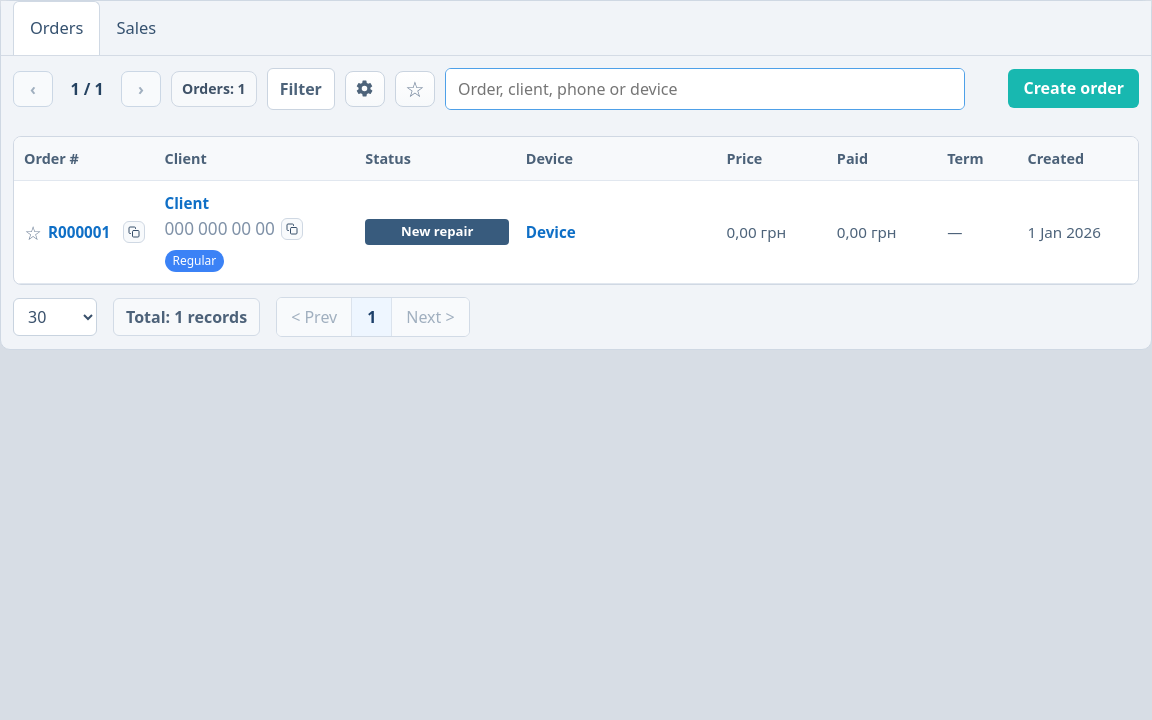
Test: OrdersWorkspace › does not scroll when closing the order card
The image size is (1152, 720).
Click the link "R000001" at [79, 232], box [48,221,110,244]
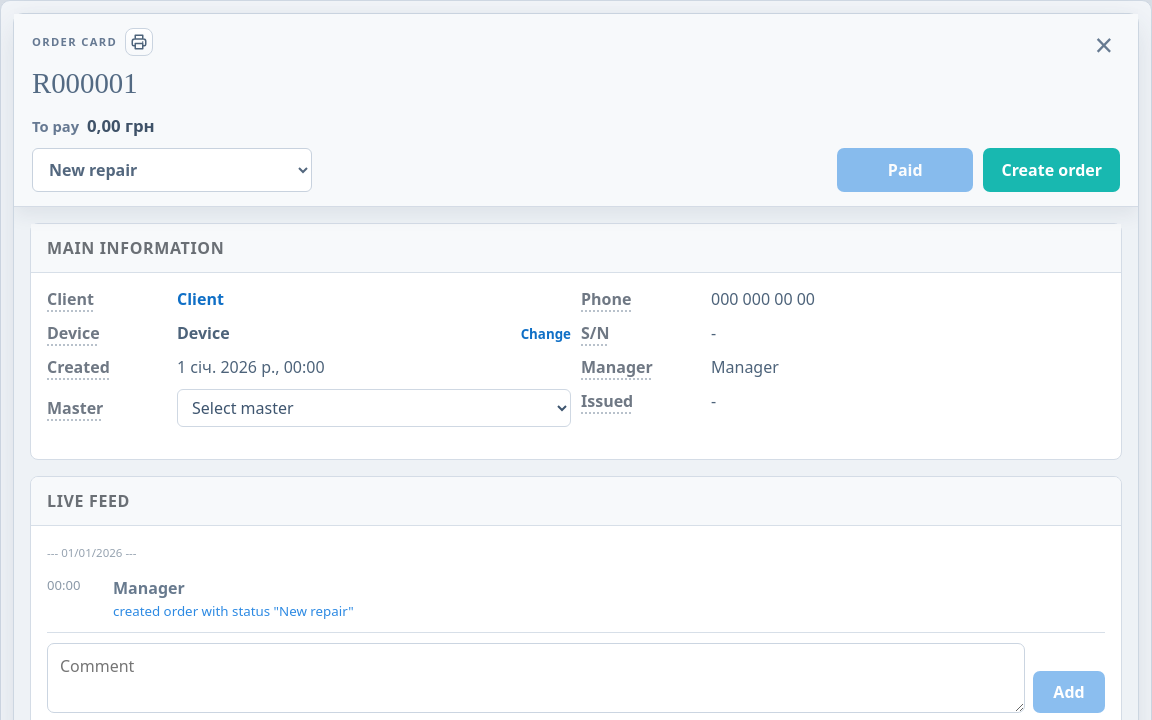
Click the button named "Close order card" at [1104, 44], box [1088,28,1120,60]
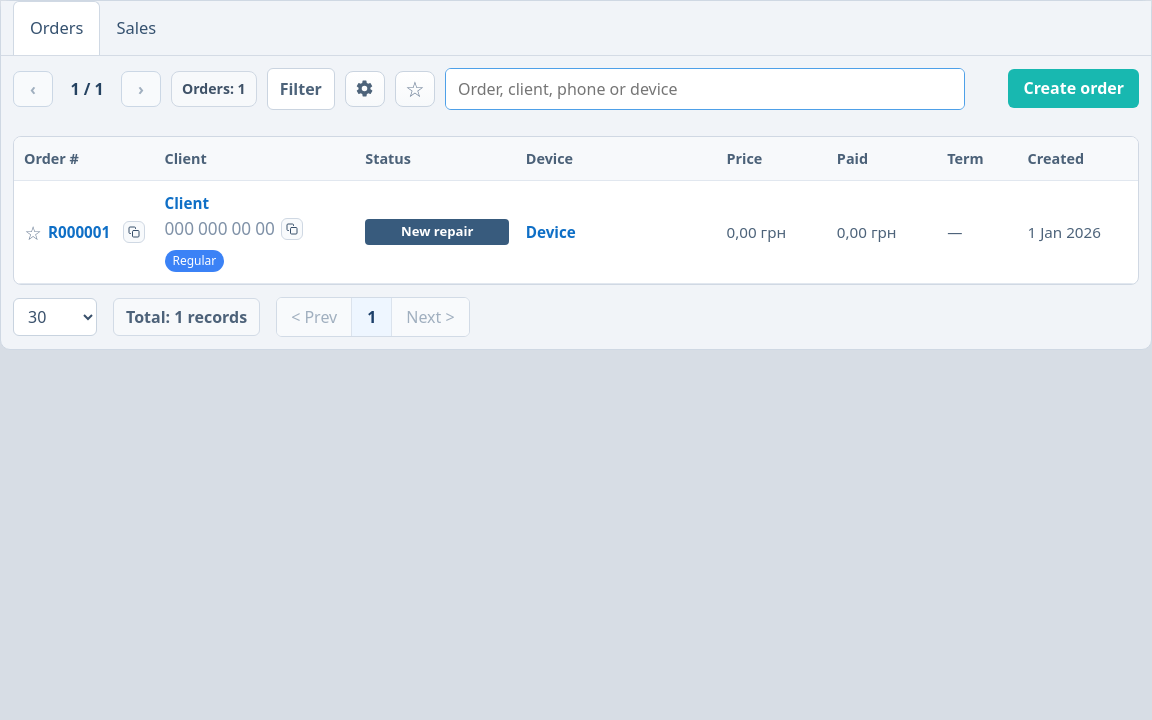
Check: the text labelled "Order card" is gone
